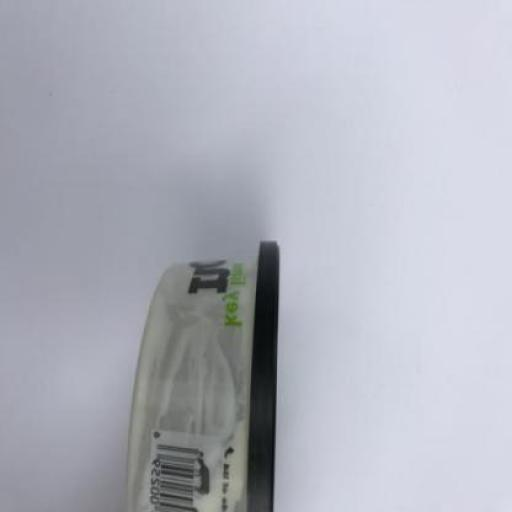plastic: (127, 240, 280, 511)
